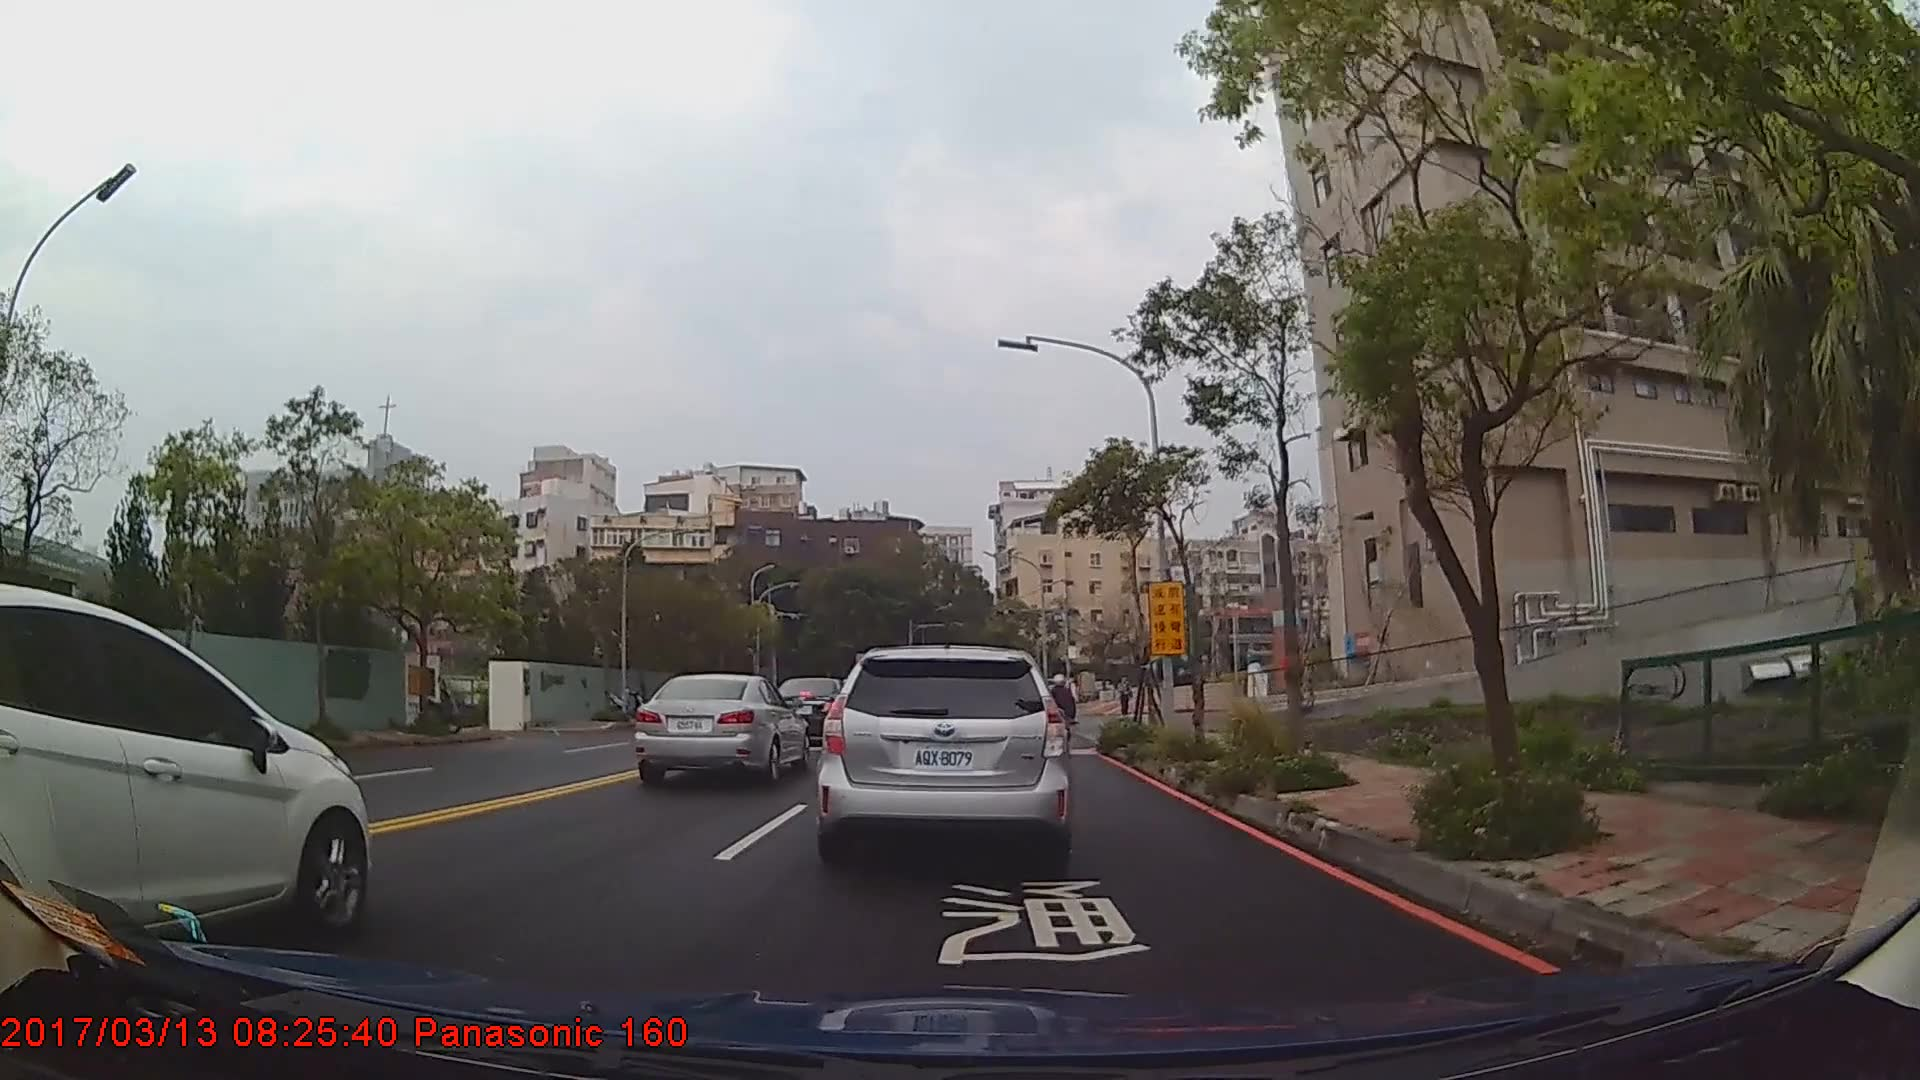rider: (1045, 673, 1077, 749)
vehicle: (0, 580, 370, 958), (817, 642, 1071, 867), (636, 672, 809, 786), (775, 674, 857, 741)
